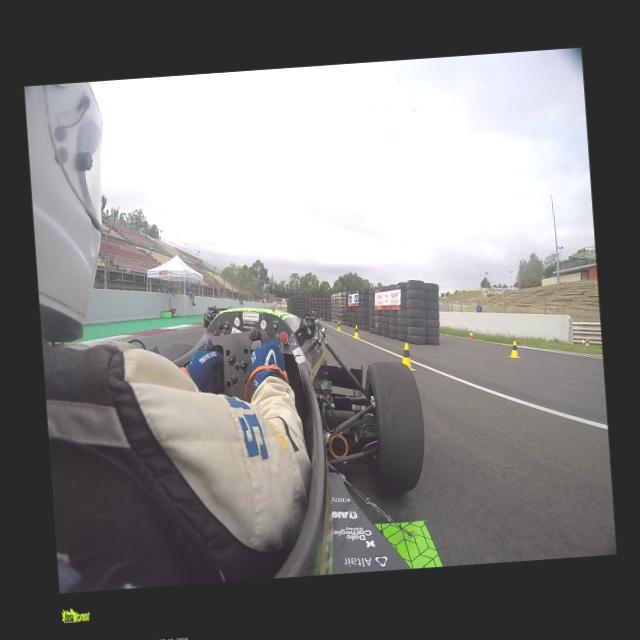orange_cone: (468, 329, 473, 340)
yellow_cone: (506, 340, 520, 360), (400, 342, 410, 362), (352, 325, 360, 338), (336, 320, 341, 330), (584, 338, 589, 347)
